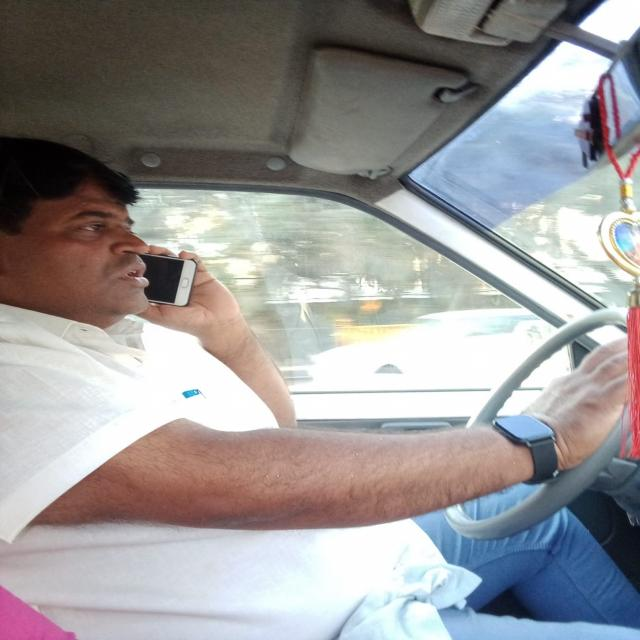mobile: (150, 242, 205, 322)
person: (0, 132, 157, 330)
